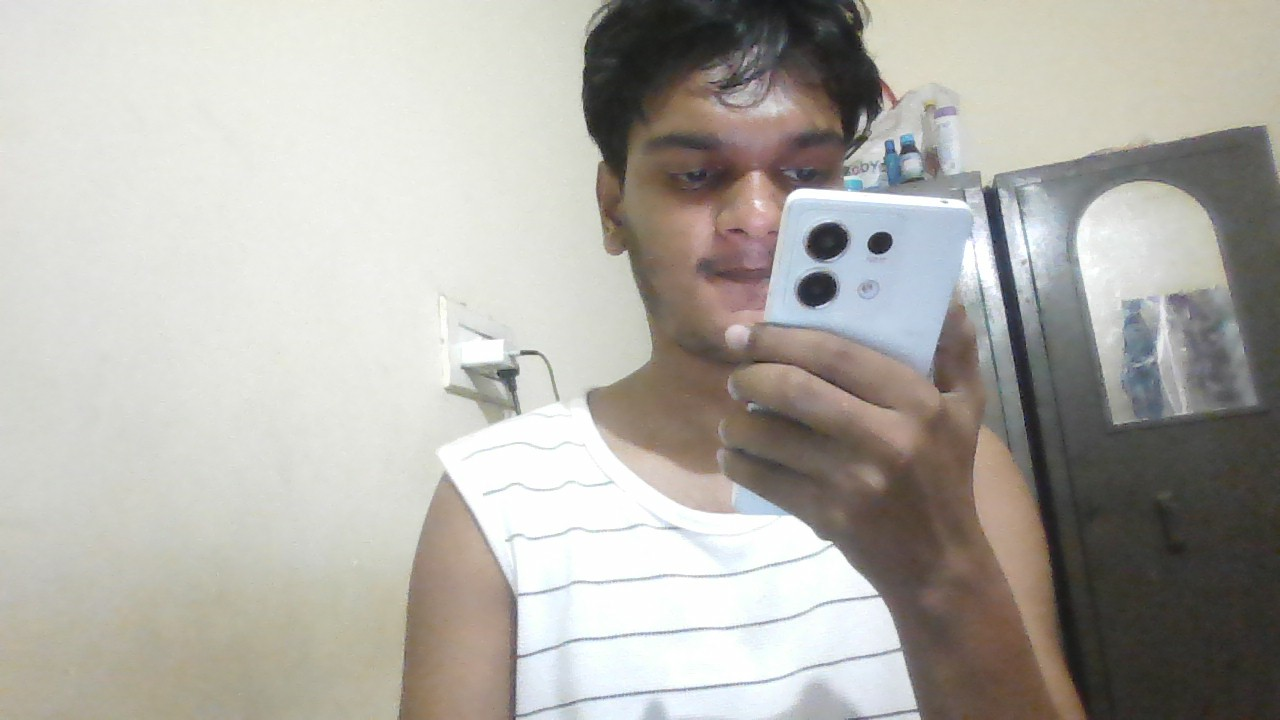phone: (765, 189, 964, 335)
